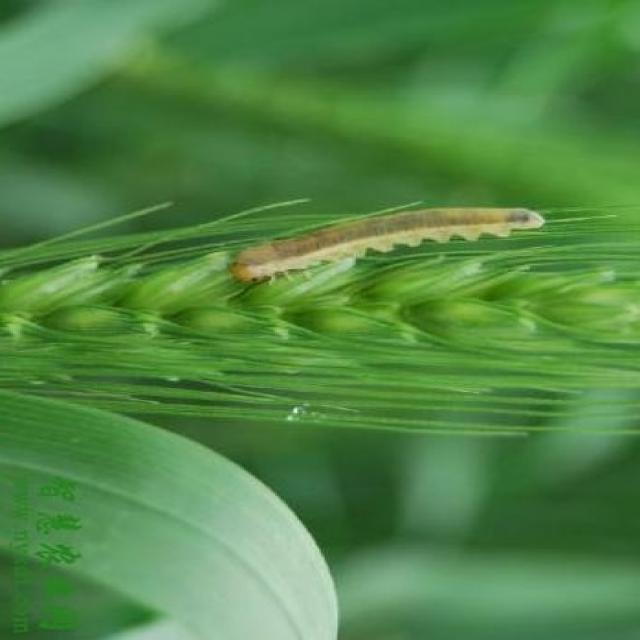army worm: (235, 204, 552, 290)
